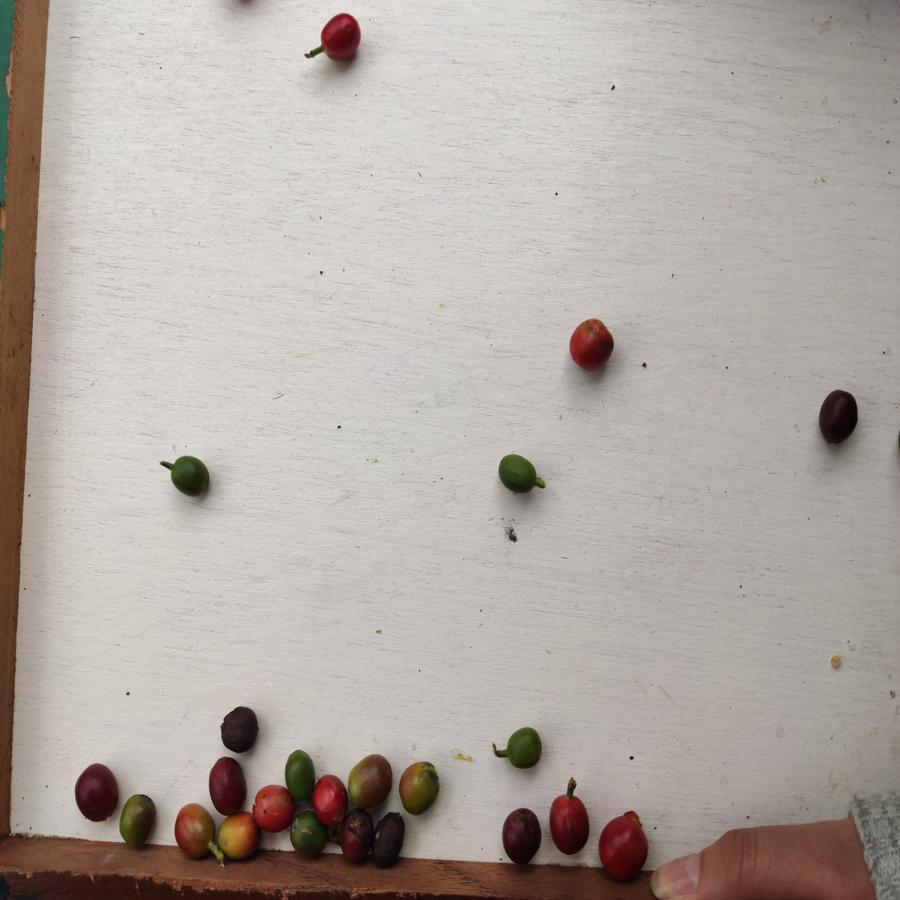Inmaduro: (494, 452, 550, 501), (117, 788, 159, 850), (492, 726, 544, 773), (165, 451, 212, 501), (285, 745, 314, 799), (292, 815, 322, 853)
Maduro: (595, 806, 649, 884), (550, 787, 590, 858), (569, 314, 616, 373), (317, 10, 365, 63), (252, 786, 292, 833), (313, 774, 348, 822)
Pinton: (399, 757, 445, 817), (348, 749, 391, 808), (172, 802, 214, 856), (222, 816, 258, 859)
Sobremaduro: (817, 386, 864, 451), (75, 759, 117, 824), (500, 806, 541, 864), (210, 756, 245, 814), (373, 811, 405, 868), (222, 706, 259, 755), (343, 809, 370, 862)
